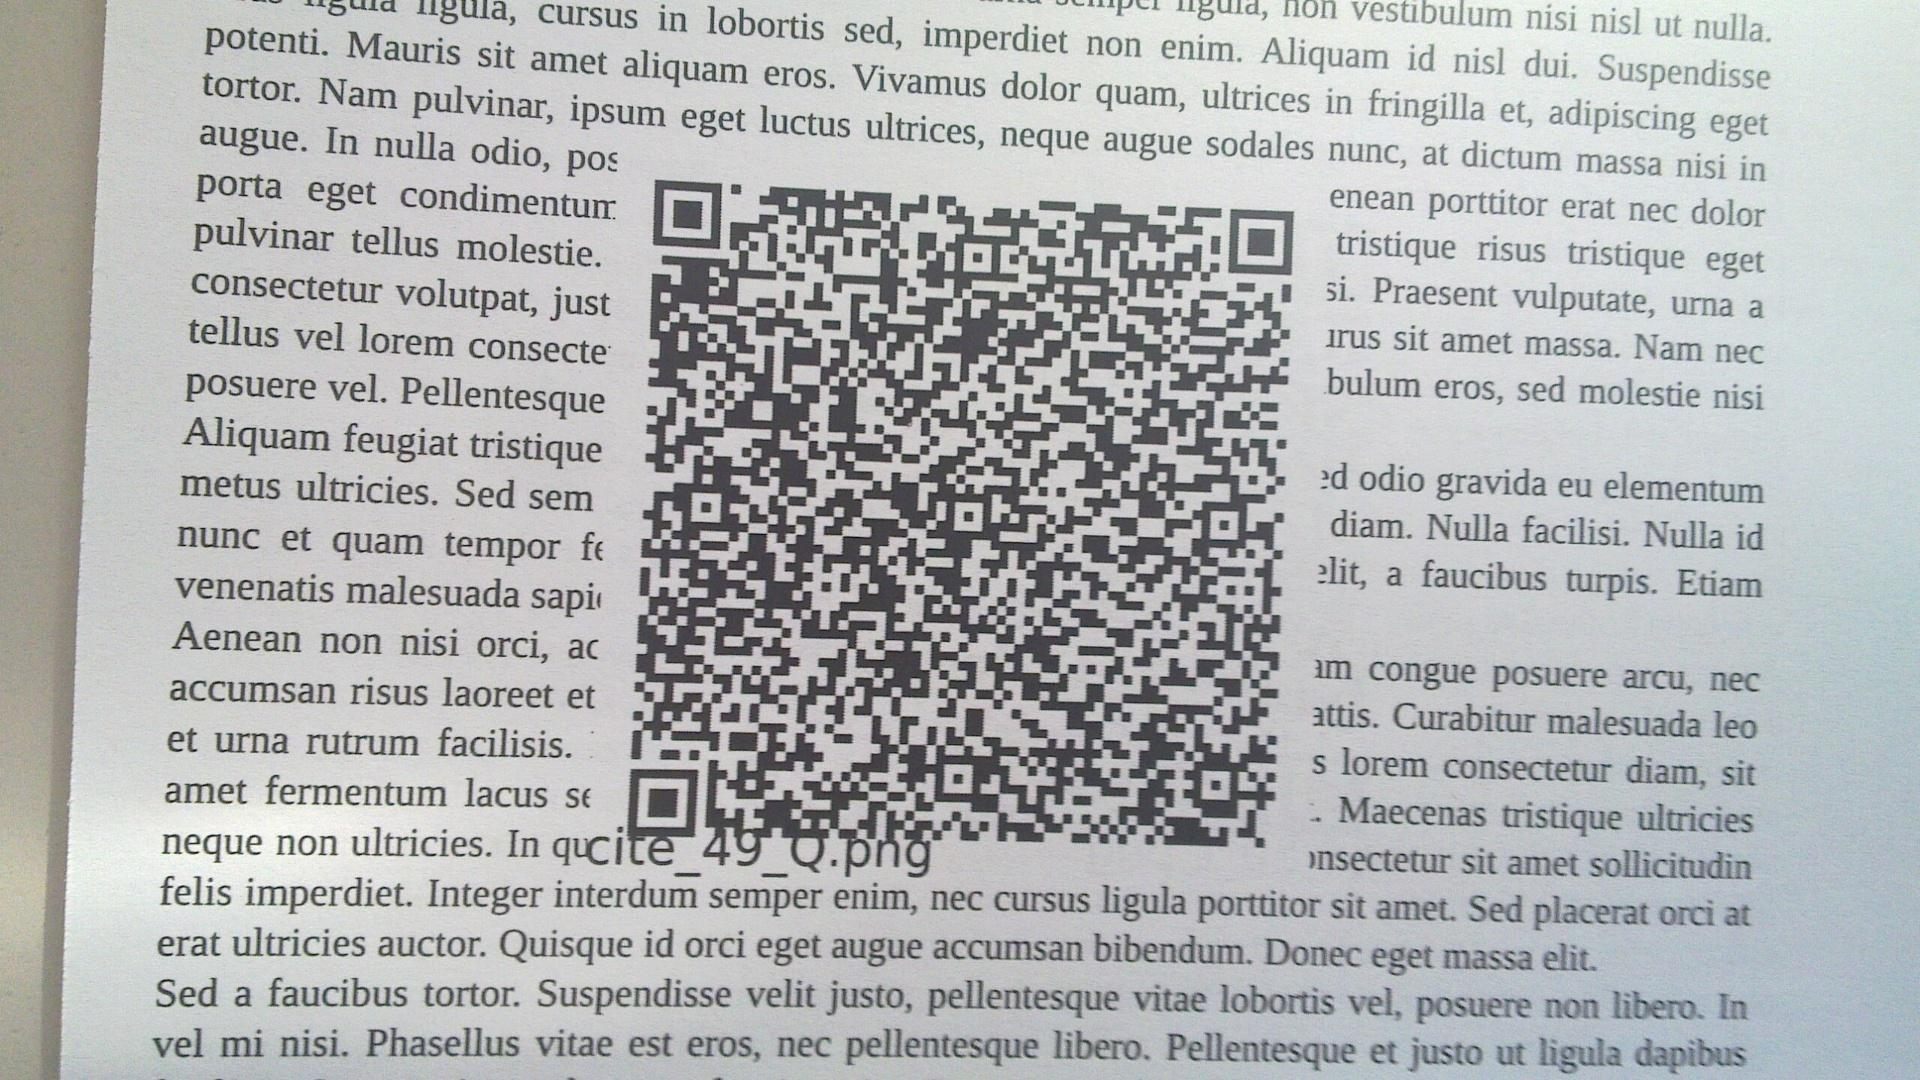Finder pattern: (620, 764, 703, 843), (650, 173, 724, 255), (1225, 204, 1298, 280)
